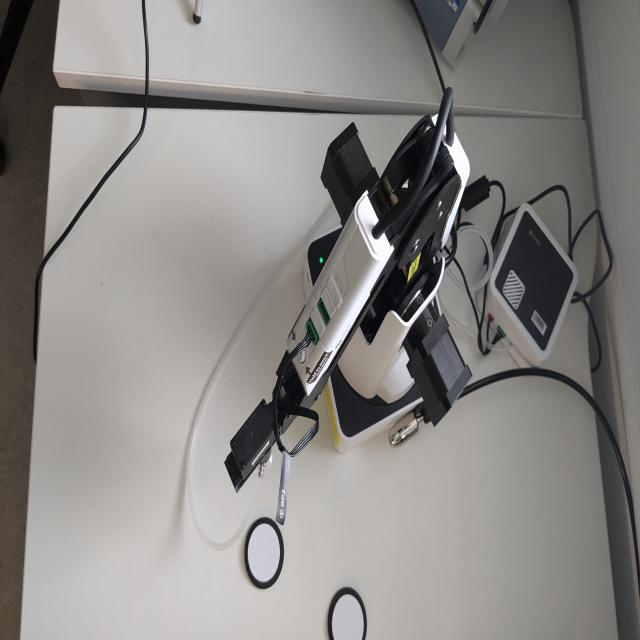Robot-end-effector-HF8z: (221, 390, 283, 498)
